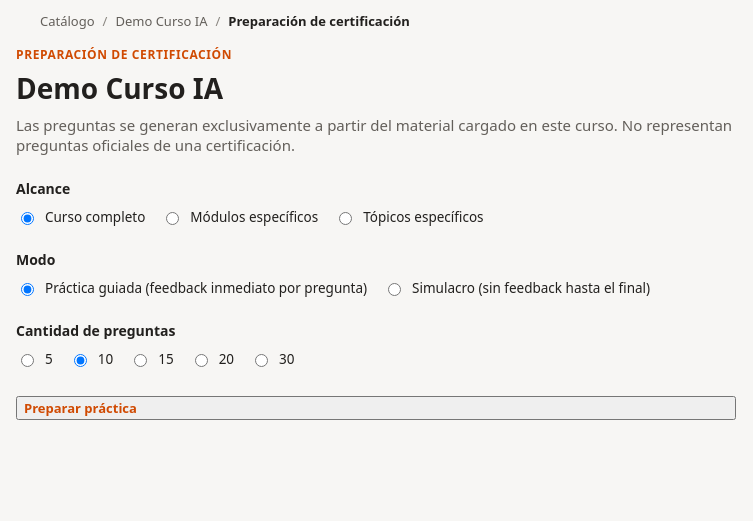
Test case: CertificationSetupPage › selección de alcance: al elegir 'Módulos específicos' aparece la lista de módulos
Expected: the heading "Demo Curso IA" is shown, 16,69 -> 223,107
Step 1. Click the radio button labelled "Módulos específicos" → (173,218), box 166,212 -> 179,225
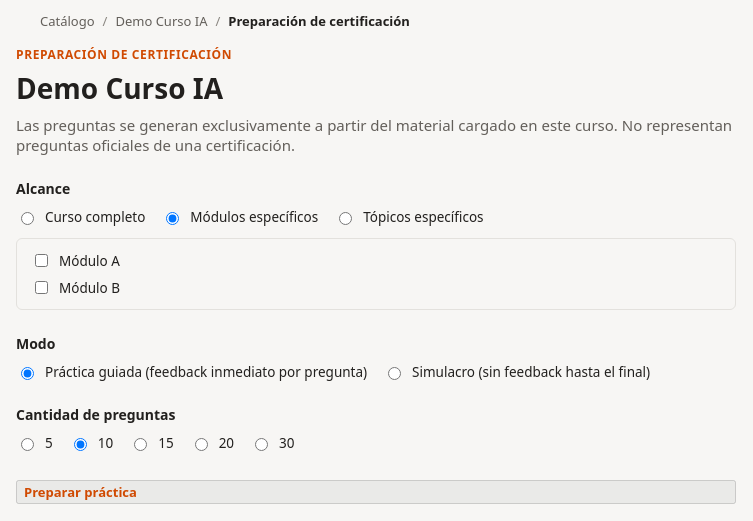
Expected: the checkbox labelled "Módulo A" is shown, 35,254 -> 48,267
Expected: the checkbox labelled "Módulo B" is shown, 35,281 -> 48,294
